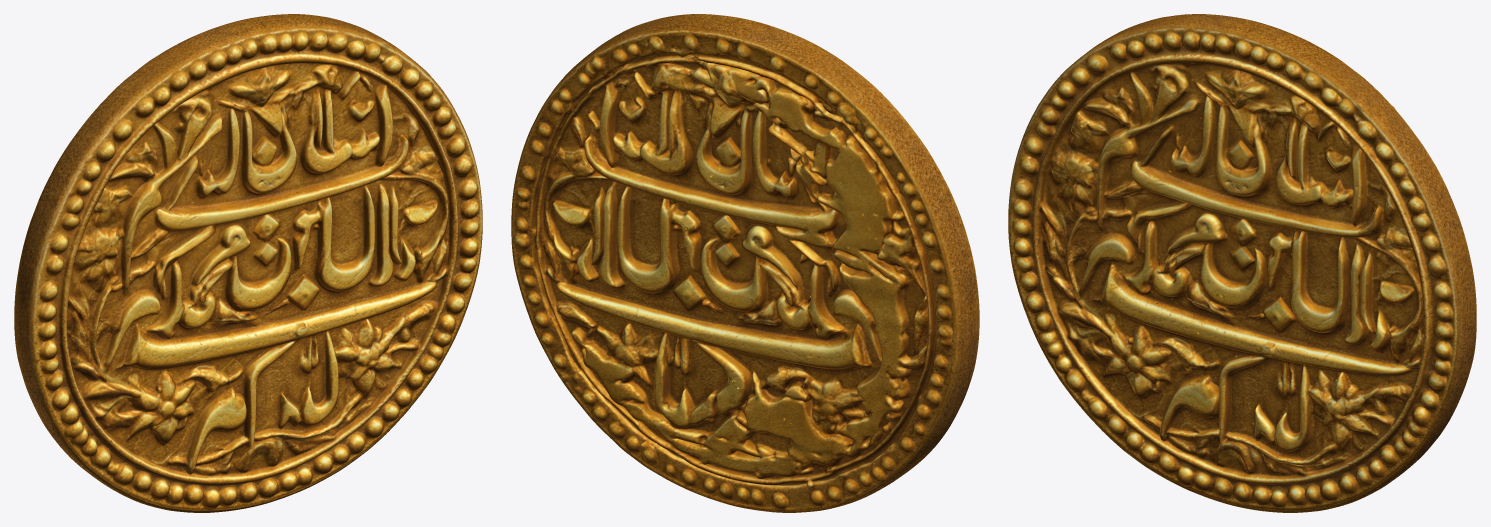
The model's file is gold-coin.glb.
The picture shows the model from 3 angles, left to right: view 1: azimuth 30°, elevation 25°; view 2: azimuth 150°, elevation 25°; view 3: azimuth 330°, elevation 25°; orthographic projection.
Visible parts, largest first — view 1: tripo_node_86d1bc40-a77e-40b2-81c3-38351bbe5748; view 2: tripo_node_86d1bc40-a77e-40b2-81c3-38351bbe5748; view 3: tripo_node_86d1bc40-a77e-40b2-81c3-38351bbe5748.
Part boxes in pixels (box(x1,y1,x2,y2)): tripo_node_86d1bc40-a77e-40b2-81c3-38351bbe5748: box(14, 14, 482, 512); tripo_node_86d1bc40-a77e-40b2-81c3-38351bbe5748: box(511, 14, 979, 512); tripo_node_86d1bc40-a77e-40b2-81c3-38351bbe5748: box(1008, 14, 1476, 512).
Bounding box in the file's own units: 0.9981 × 1 × 0.1223.
Materials: 1 (1 with a texture image).
